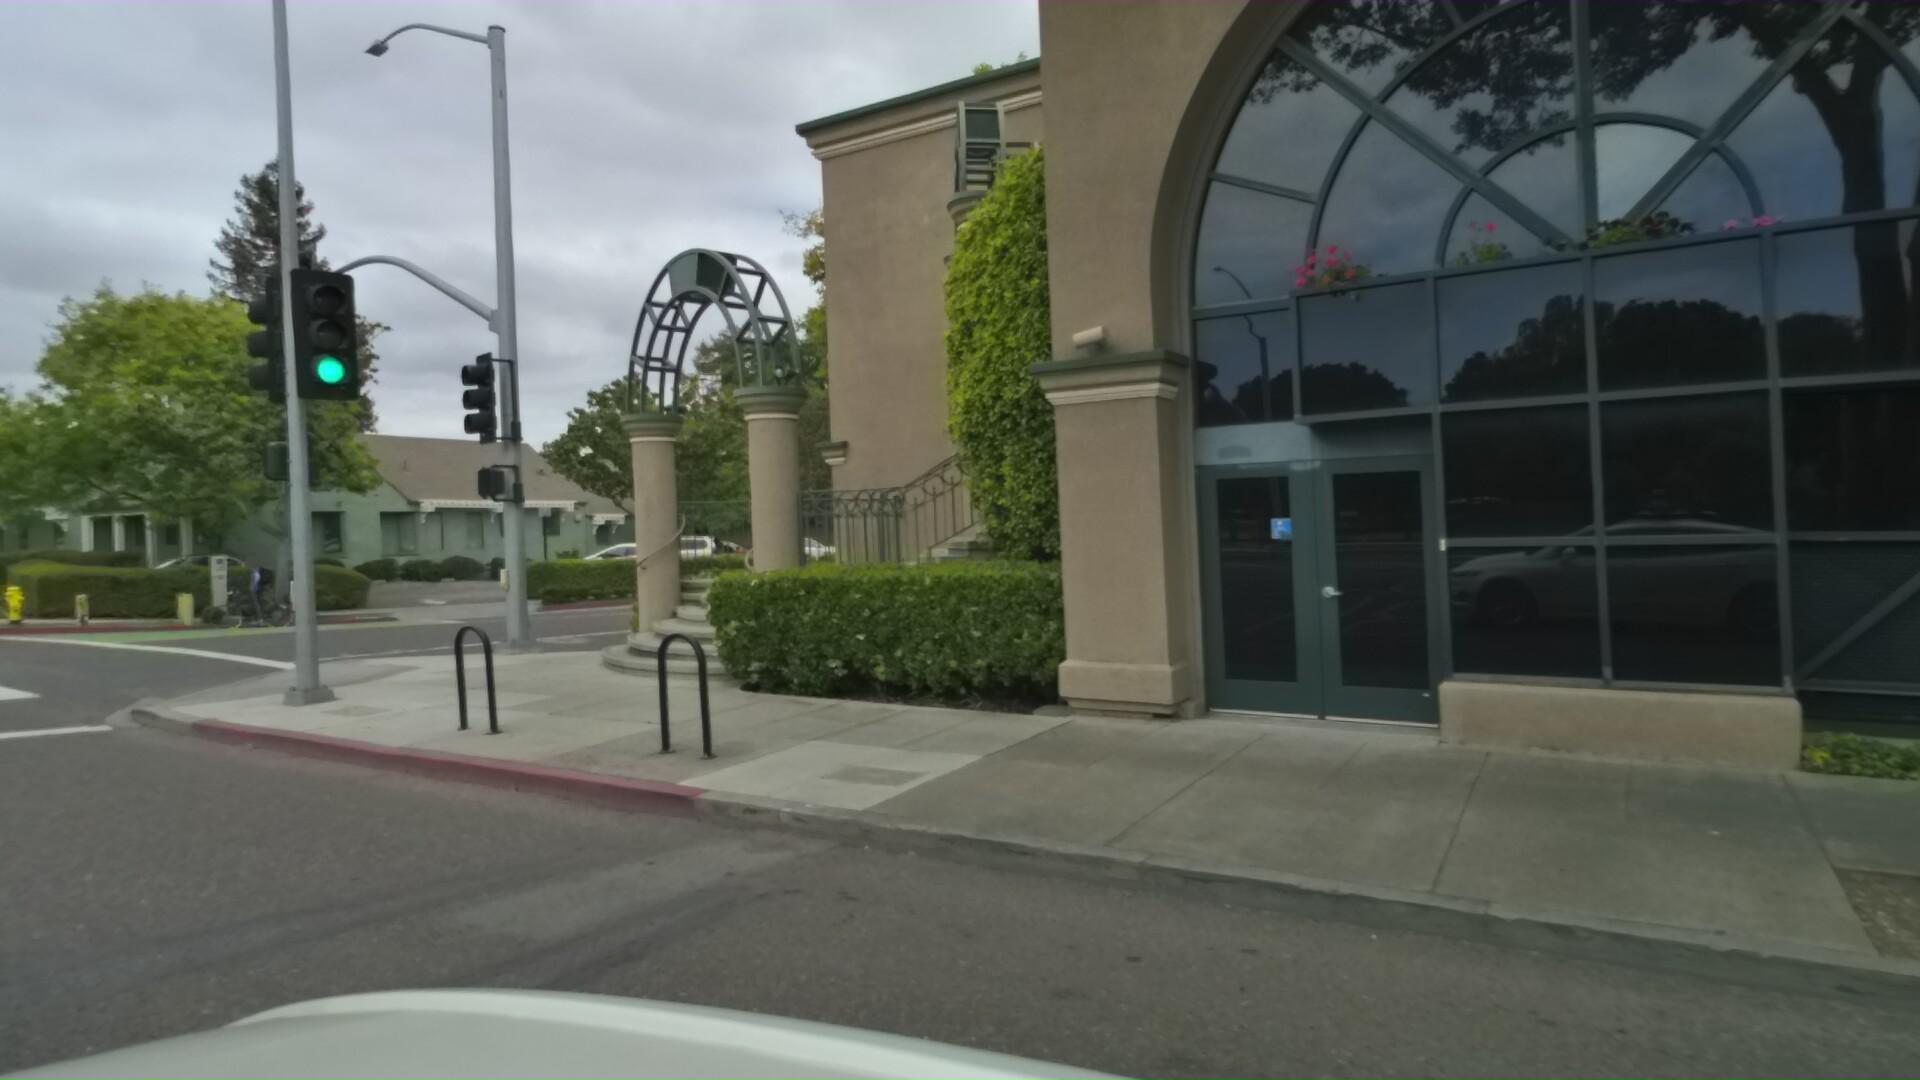bicycle: (204, 545, 309, 630)
car: (94, 545, 280, 618)
